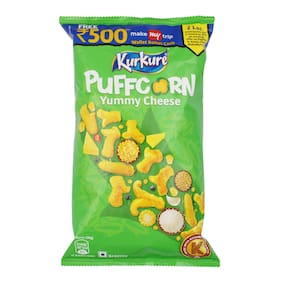kurkure: (106, 46, 175, 79)
plastic: (47, 12, 234, 275)
wrapper: (71, 24, 202, 261)
